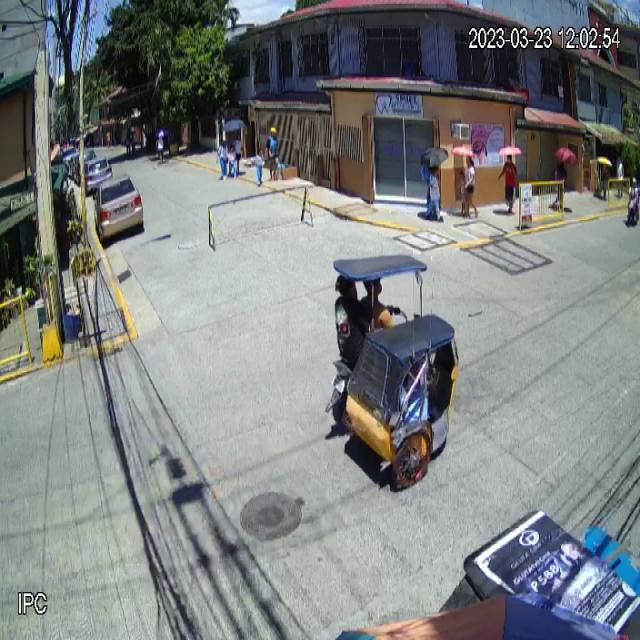Tricycle: (325, 253, 460, 486)
